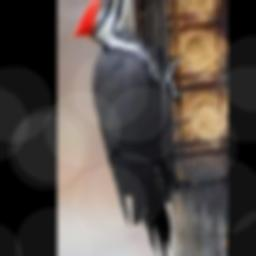Woodpecker: (71, 0, 181, 256)
